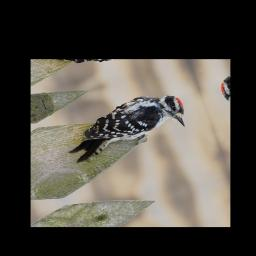Woodpecker: (57, 83, 191, 165)
